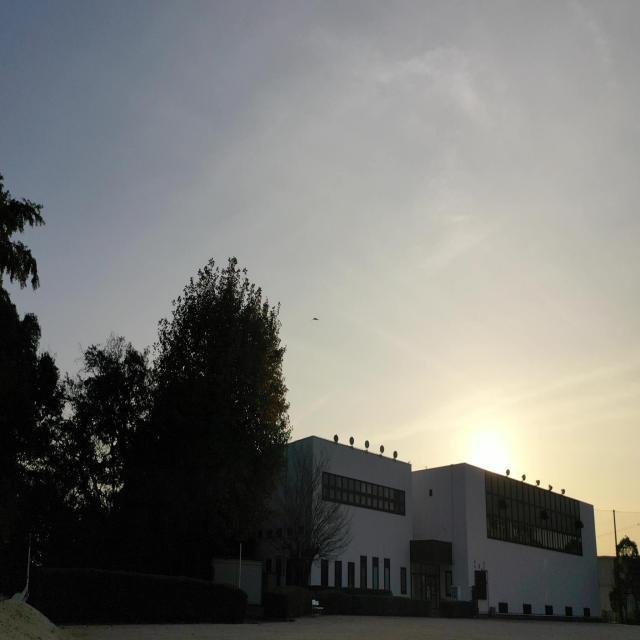Birds: (305, 306, 325, 330)
